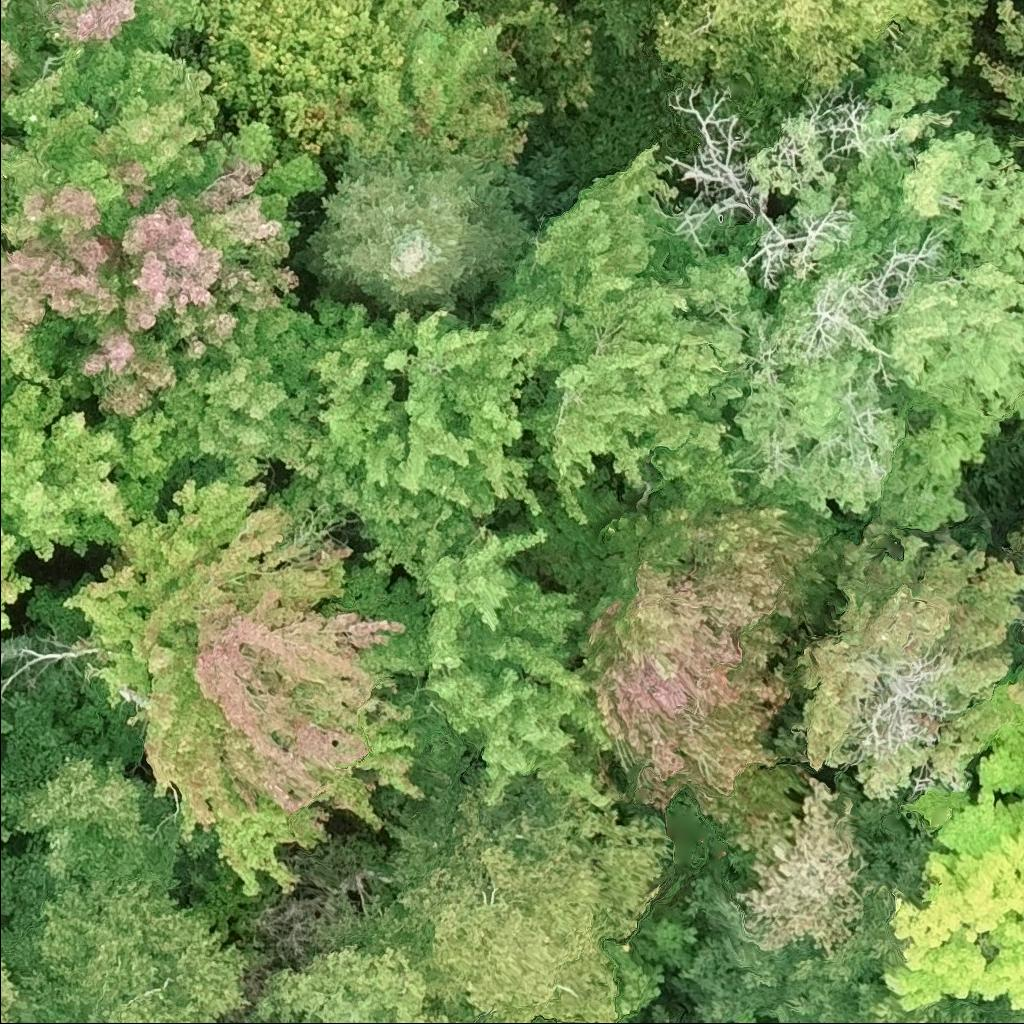crown: (57, 464, 429, 897), (727, 63, 1023, 539), (0, 39, 331, 421), (477, 142, 770, 527), (577, 498, 841, 833), (334, 774, 676, 1023), (261, 291, 565, 571), (361, 525, 620, 808), (790, 521, 1023, 801), (576, 0, 993, 137), (91, 291, 337, 516), (666, 892, 1023, 1023), (284, 139, 537, 317), (0, 866, 255, 1023), (190, 0, 416, 157), (880, 785, 1023, 1014), (366, 0, 548, 170), (0, 377, 140, 558), (244, 942, 465, 1023), (28, 0, 202, 59), (0, 0, 65, 139), (973, 0, 1023, 129), (976, 690, 1023, 798), (0, 521, 32, 635), (0, 942, 21, 1023), (1000, 525, 1023, 572), (1000, 670, 1023, 708), (0, 740, 10, 796), (0, 810, 14, 845), (0, 708, 15, 733), (1007, 131, 1023, 149), (731, 1015, 757, 1023), (775, 1022, 784, 1023)
